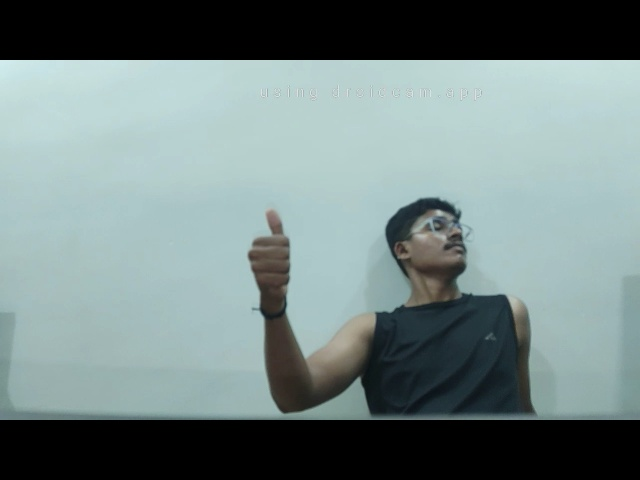thanks: (235, 202, 302, 309)
